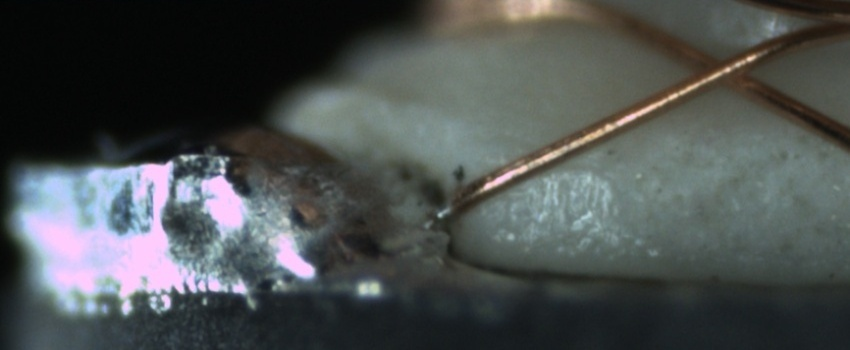CL: (671, 38, 775, 100)
